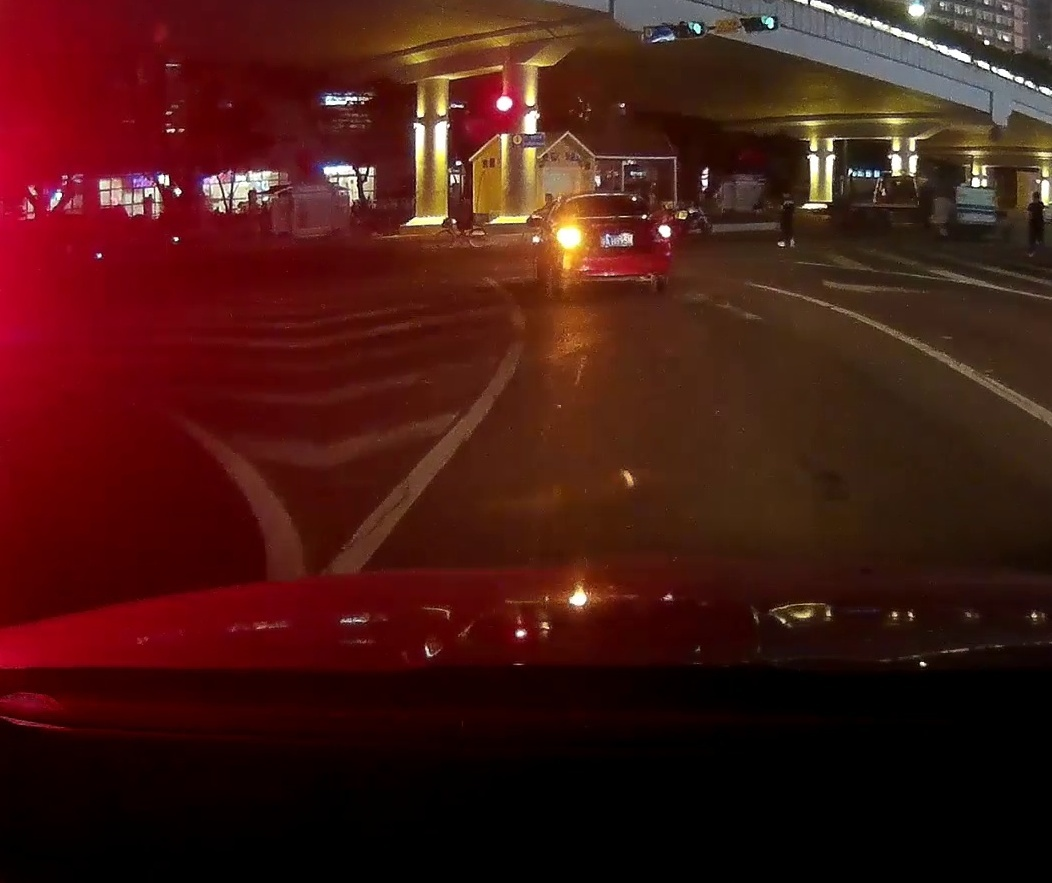L_light: (556, 231, 583, 244)
R_light: (656, 225, 671, 238)
T_light: (598, 196, 612, 200)
night-left: (554, 193, 671, 298)
